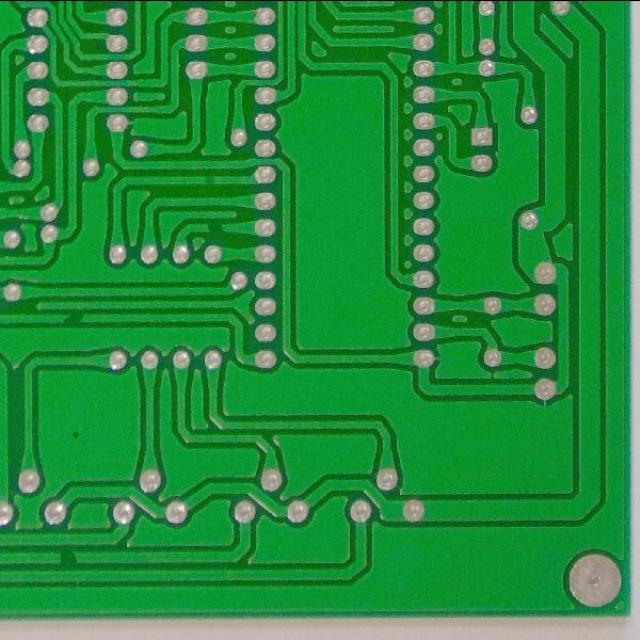Open_Circuit: (49, 544, 88, 570), (55, 307, 93, 328), (200, 218, 232, 236)
